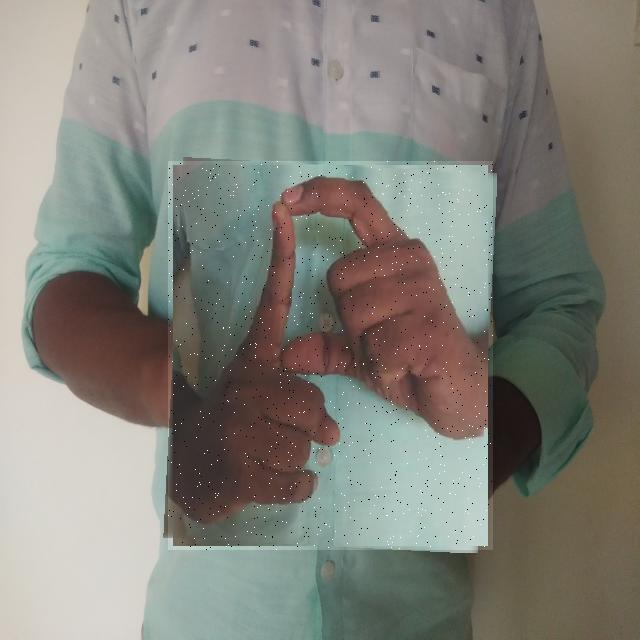D: (168, 161, 493, 550)
